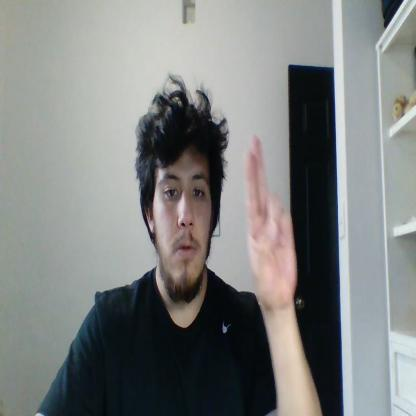U: (245, 135, 297, 306)
